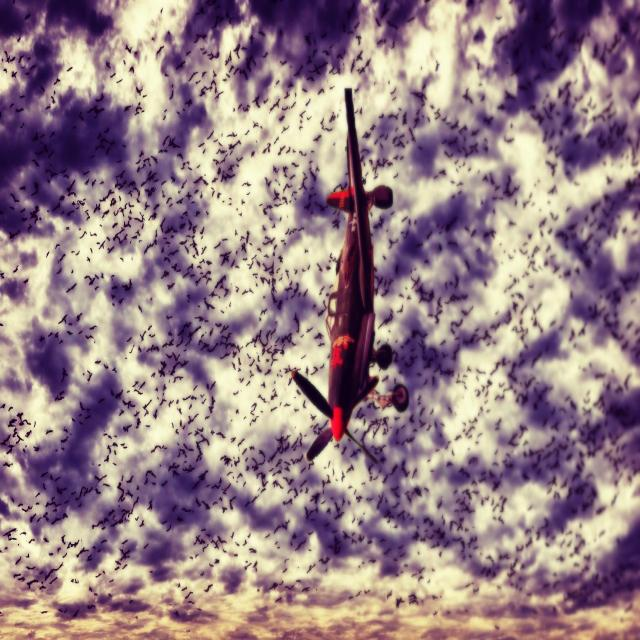airplane: (291, 86, 408, 466)
